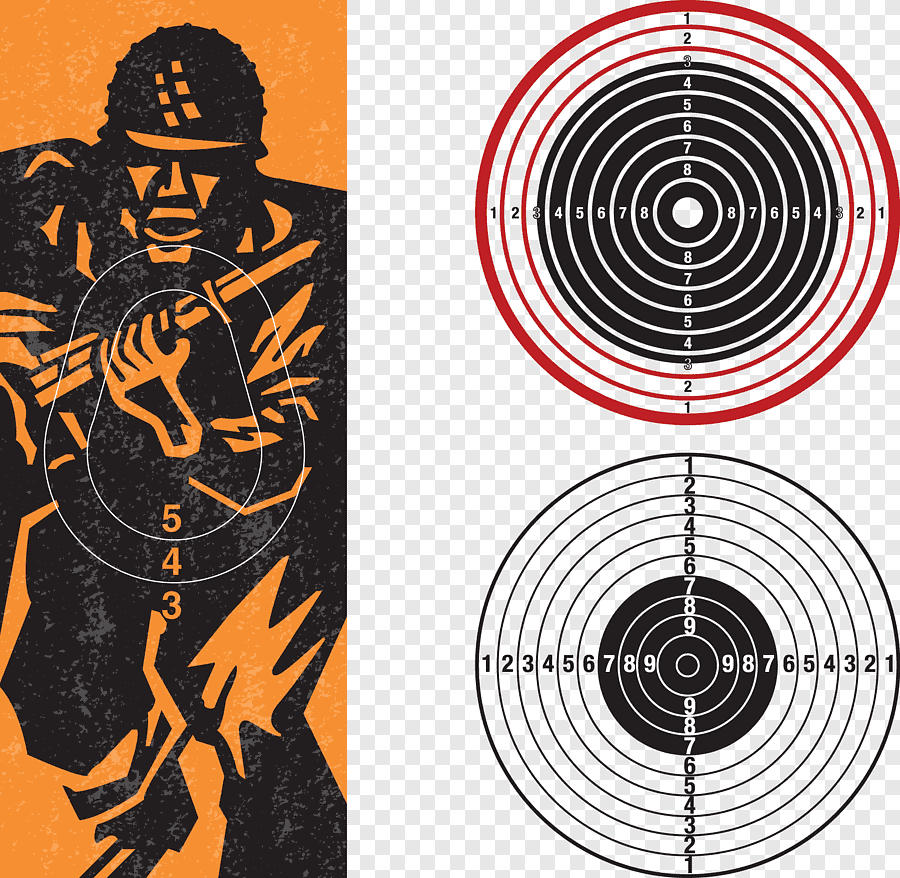target: (448, 430, 900, 878), (458, 2, 900, 420)
